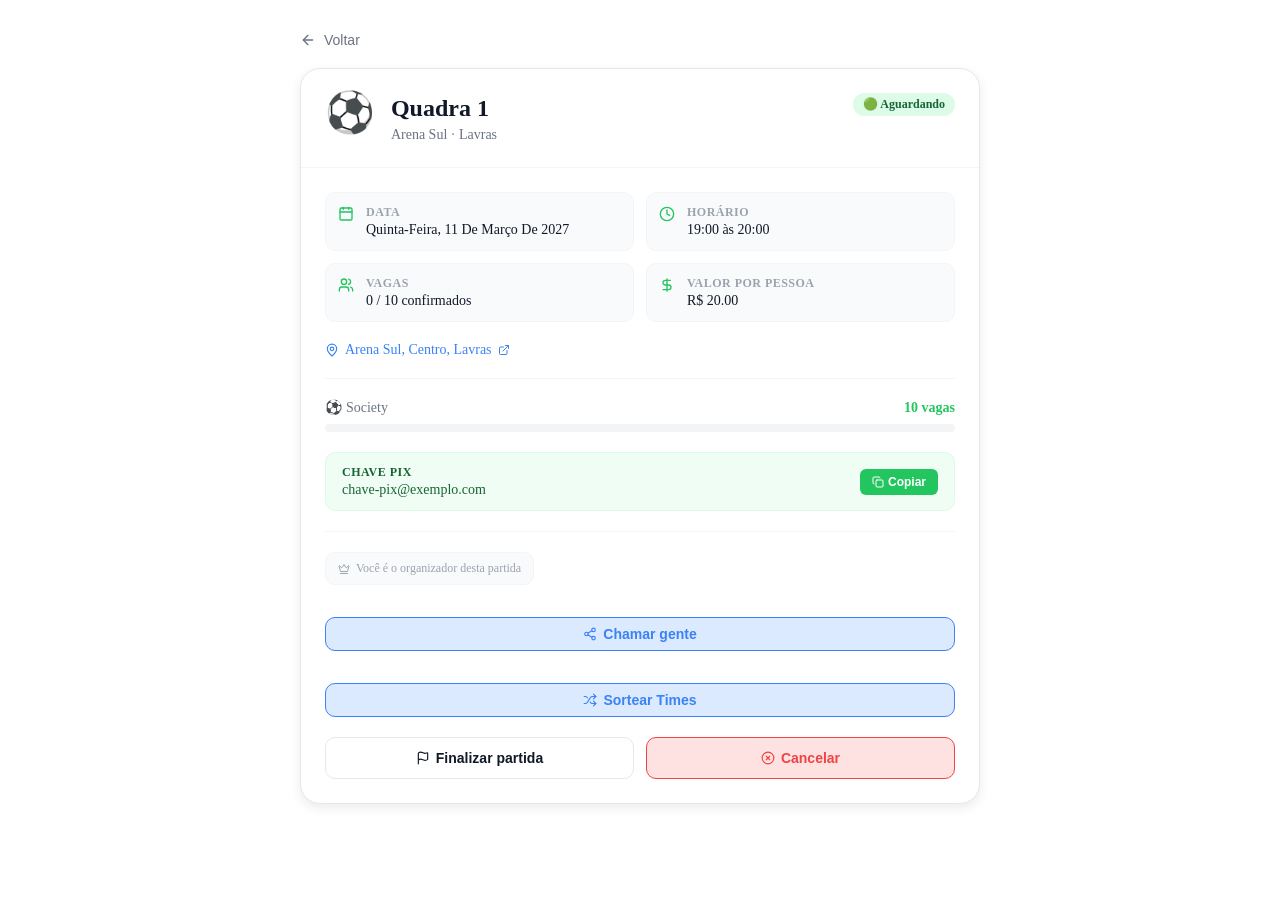
PartidaDetail — sorteio de times › sorteia com o id da quadra e da partida do detalhe, e mostra os times
Step 1. Click the button "Sortear Times" → (640,700), box 325,683 -> 955,717
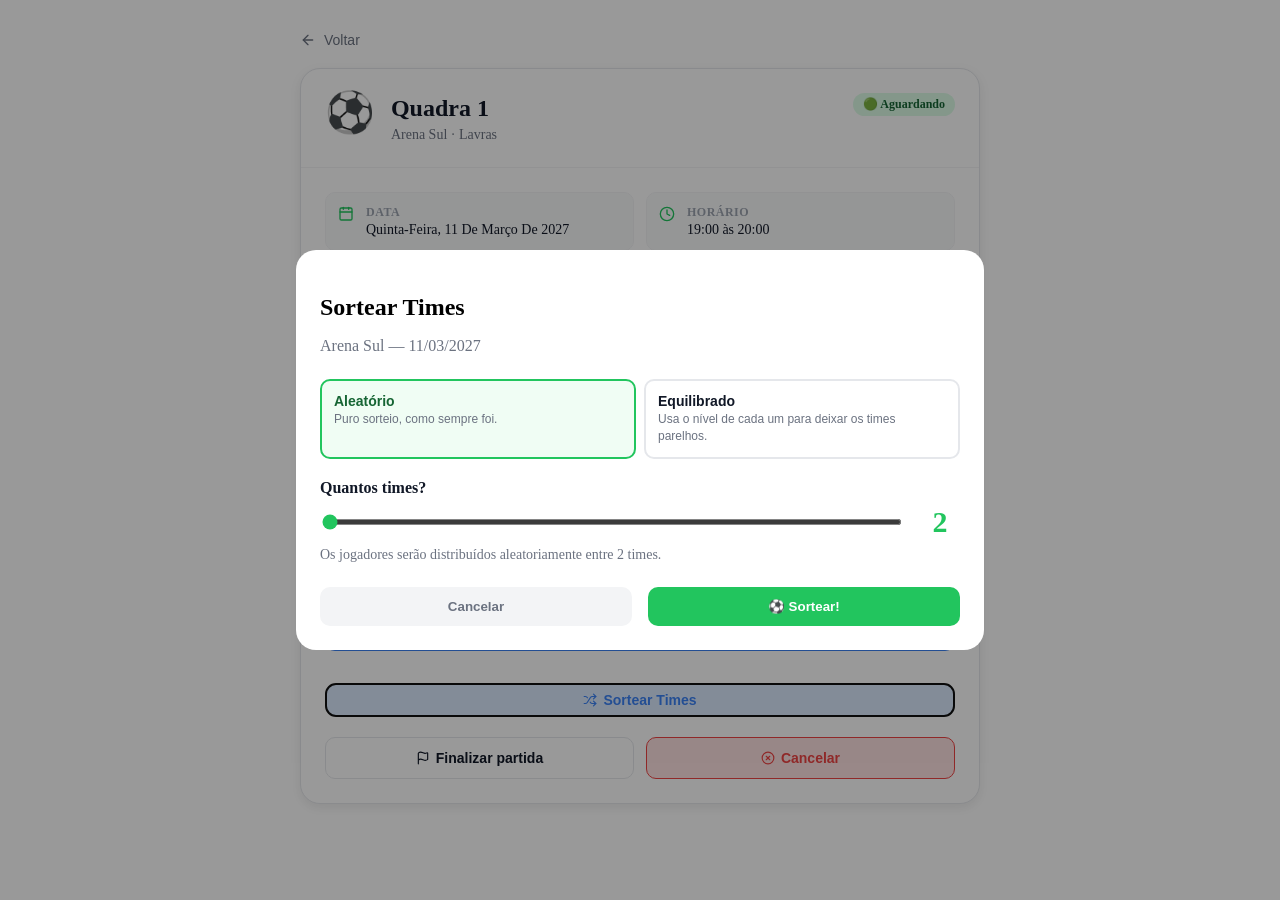
Step 2. Click the button "⚽ Sortear!" → (804,606), box 648,587 -> 960,626
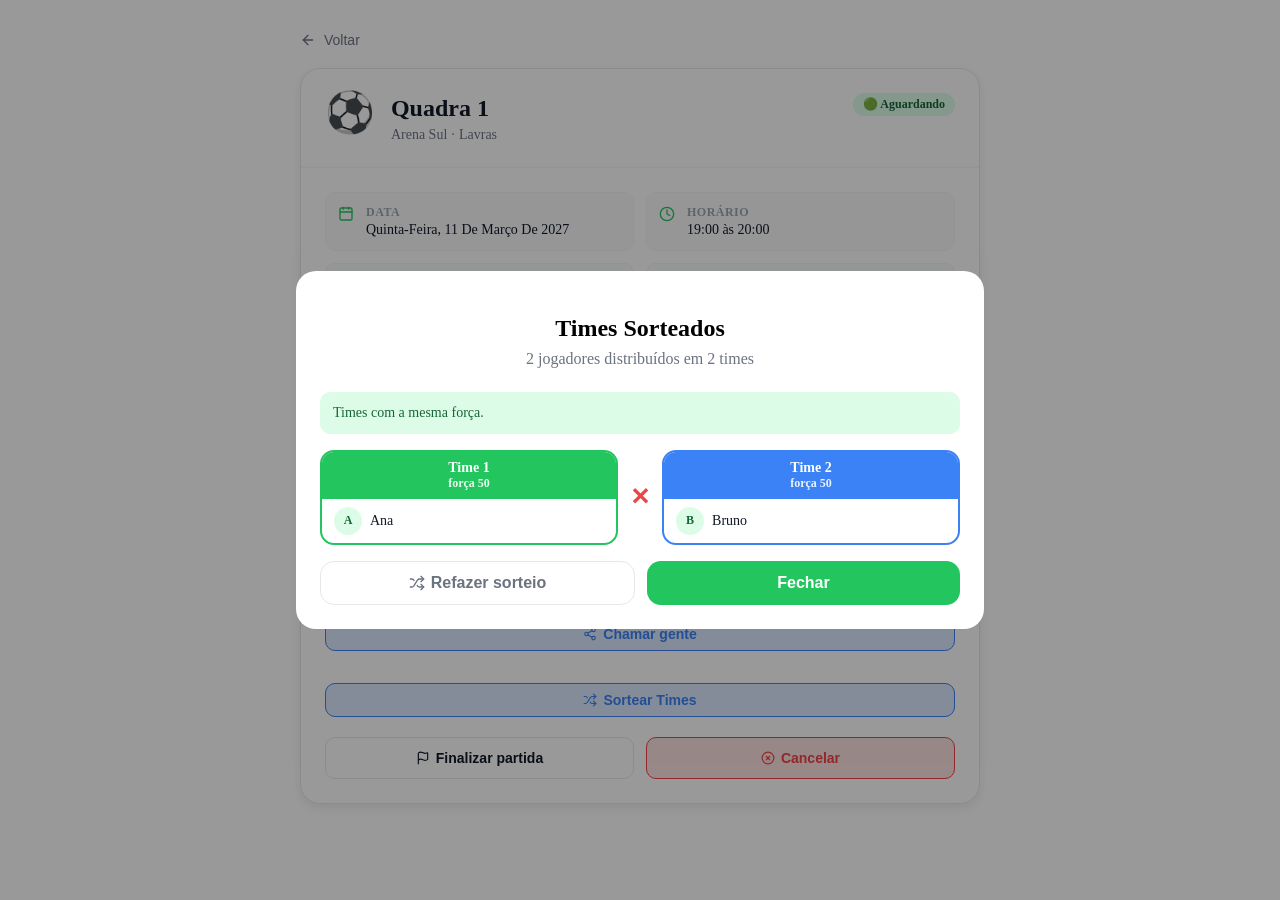
Now the heading "Times Sorteados" is shown, box 555,315 -> 725,341
Now the text "Ana" is shown, box 370,513 -> 393,529
Now the text "Bruno" is shown, box 712,513 -> 747,529
